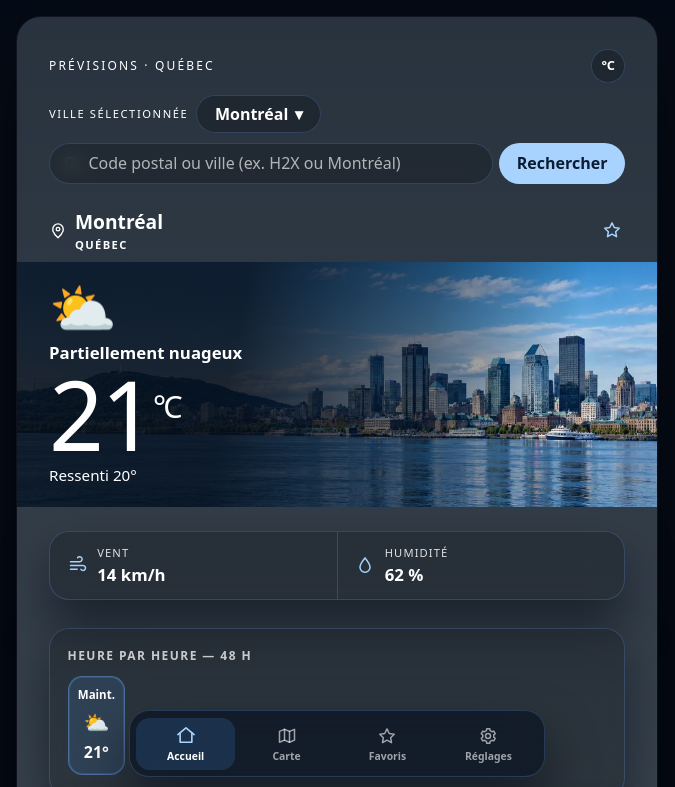
Test case: App — liste des villes › remplit le sélecteur depuis /api/villes
Check: the text "Partiellement nuageux" is shown, box 49,341 -> 242,364
Click the button with aria-label "Choisir une ville".
click(259, 114)  # box 196,95 -> 321,133
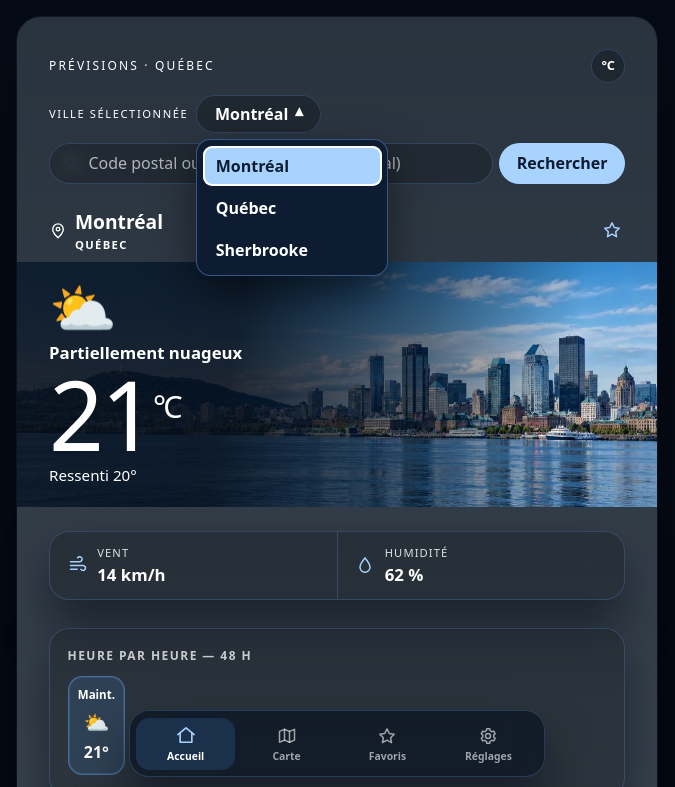
Check: the menu item "Sherbrooke" is shown, box 203,230 -> 382,270
